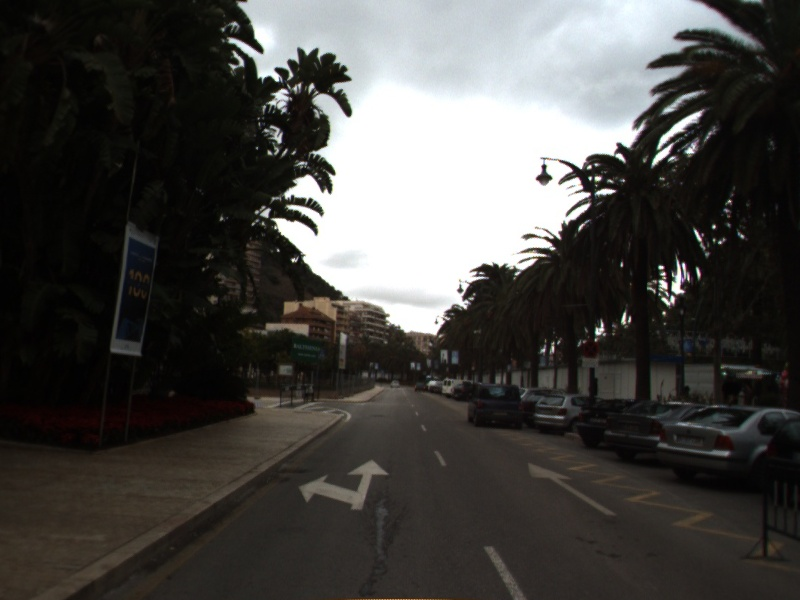STRAIGHT: (526, 461, 620, 518)
STRAIGHT_LEFT: (297, 457, 392, 512)
